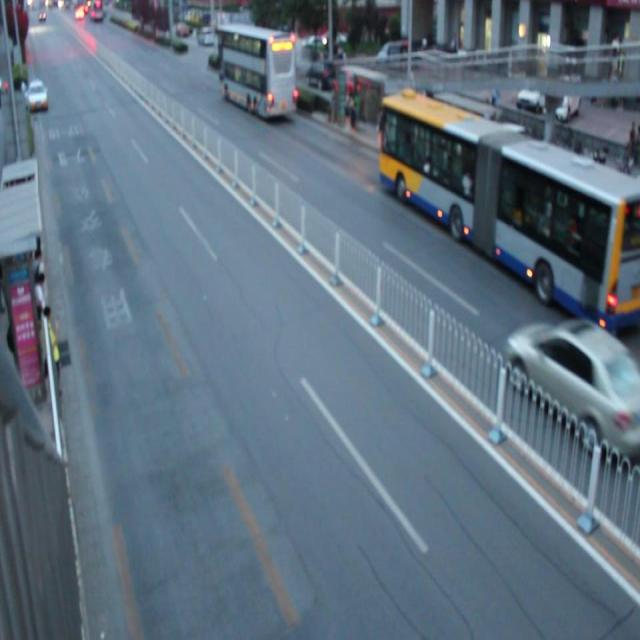car: (506, 316, 640, 457)
van: (378, 95, 640, 320), (216, 22, 296, 118)
